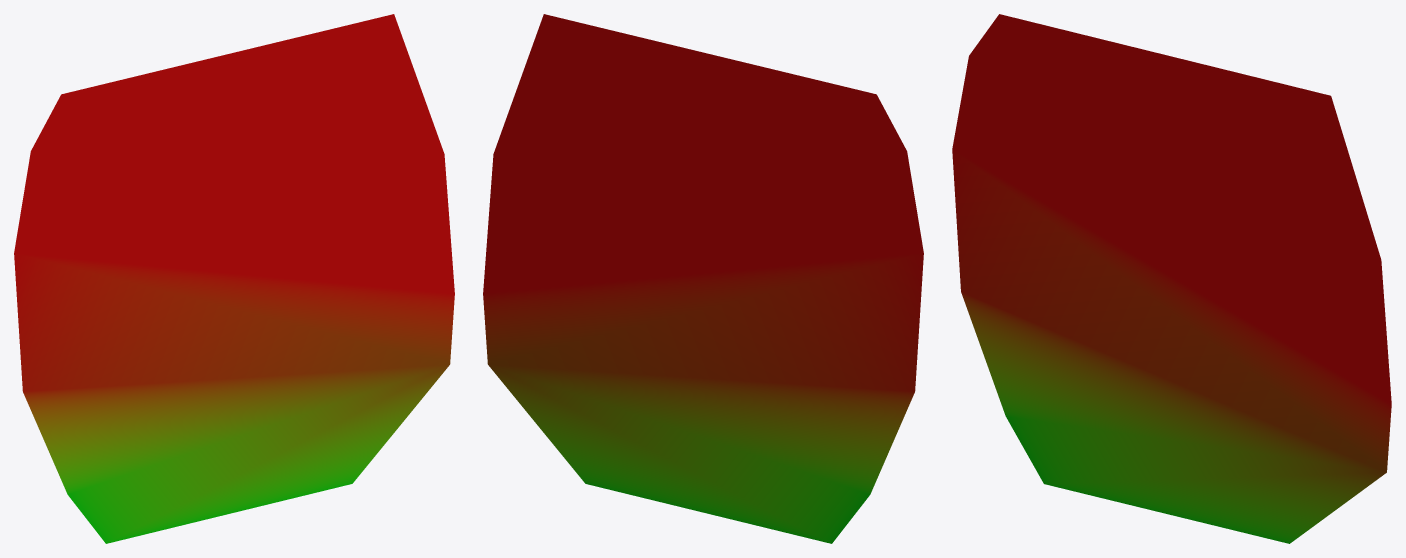
Rendered from Butterfly Weed_LOD4_Var7.fbx.
3 renders of one model, left to right at view 1: azimuth 30°, elevation 25°; view 2: azimuth 150°, elevation 25°; view 3: azimuth 330°, elevation 25°, orthographic.
Visible parts, largest first — view 1: _cx76_Var7_LOD4; view 2: _cx76_Var7_LOD4; view 3: _cx76_Var7_LOD4.
Boxes of the visible parts, x1,y1,x2,y2 form: _cx76_Var7_LOD4: [14, 14, 454, 543]; _cx76_Var7_LOD4: [483, 14, 923, 543]; _cx76_Var7_LOD4: [952, 14, 1391, 543].
Bounding box in the file's own units: 72.44 × 72.3 × 4.11e-06.
